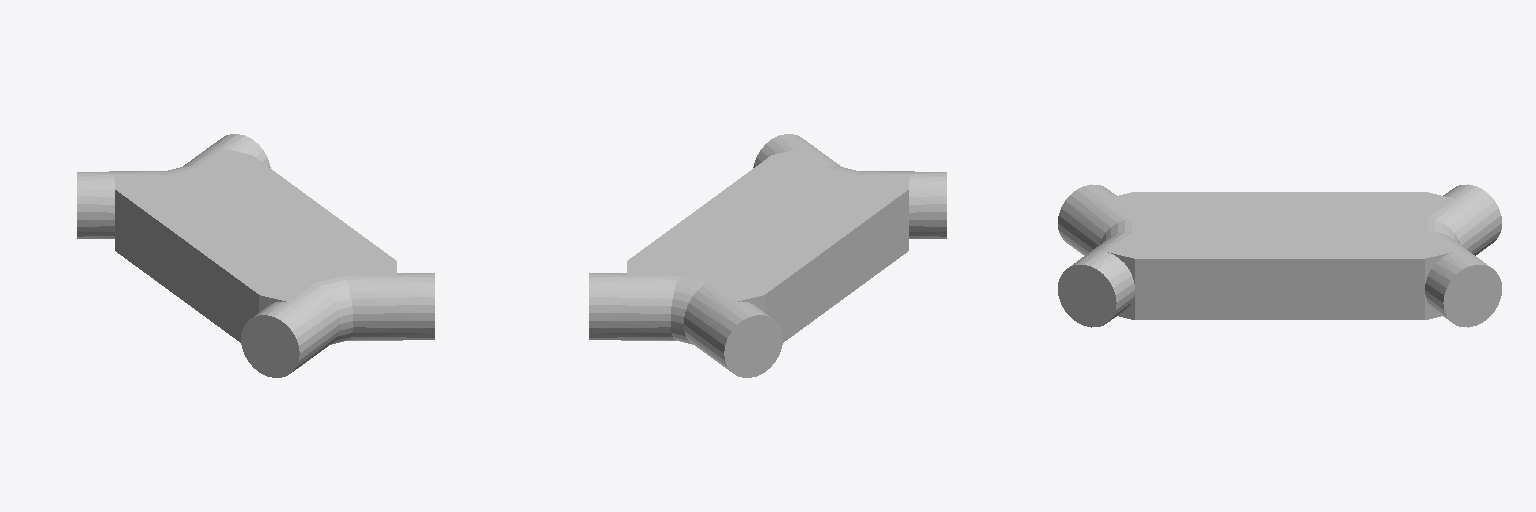
File: soft_body_simplified_30_deg.obj
3 views of the same model, side by side, from view 1: azimuth 30°, elevation 25°; view 2: azimuth 150°, elevation 25°; view 3: azimuth 270°, elevation 25° (orthographic).
Parts seen in each view (by area): view 1: Solid1; view 2: Solid1; view 3: Solid1.
Boxes of the visible parts, x1,y1,x2,y2 form: Solid1: [77, 134, 434, 377]; Solid1: [589, 134, 946, 377]; Solid1: [1058, 184, 1501, 327].
Size of the model in its own units: 210 by 64 by 418.